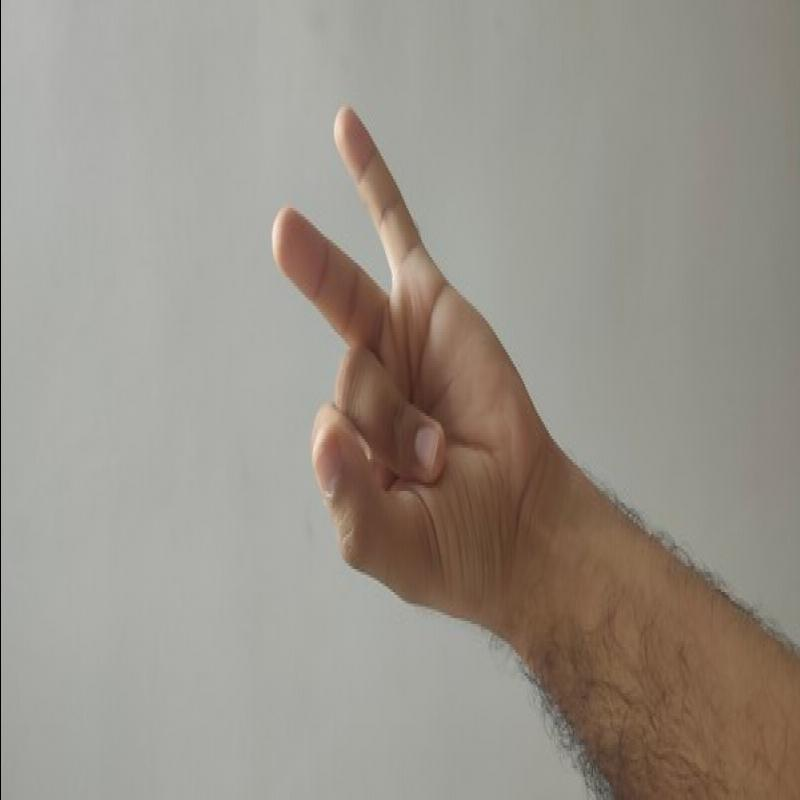Katakam: (253, 88, 568, 627)
